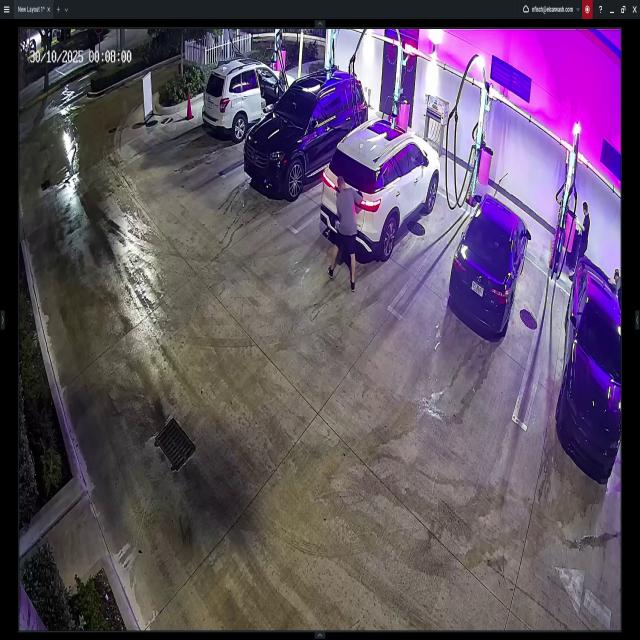Car: (242, 67, 368, 199), (323, 120, 441, 258), (556, 262, 622, 483), (450, 190, 530, 336), (202, 61, 294, 137)
